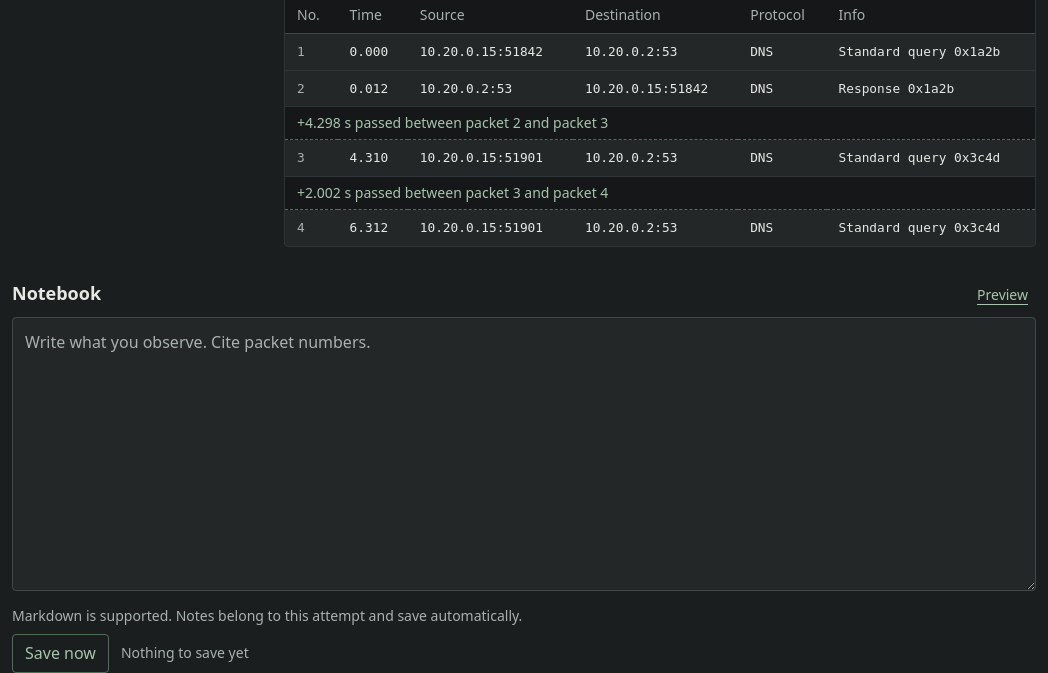
Workspace: notebook › saves the draft first, then completes the note step and shows the summary
The image size is (1048, 673).
(page scrolled)
In the text box named "Notebook": (524, 454) x1=12 y1=317 x2=1036 y2=591, type "Packet 4 retried packet 3."
(page scrolled)
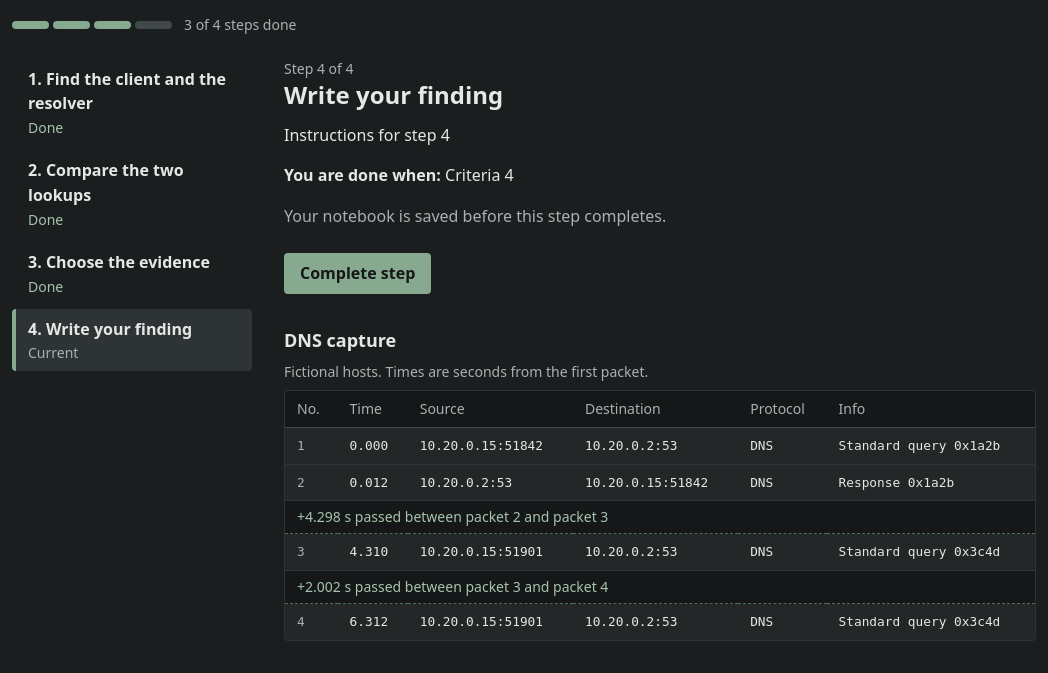
Click the button "Complete step": (358, 273) x1=284 y1=253 x2=431 y2=294
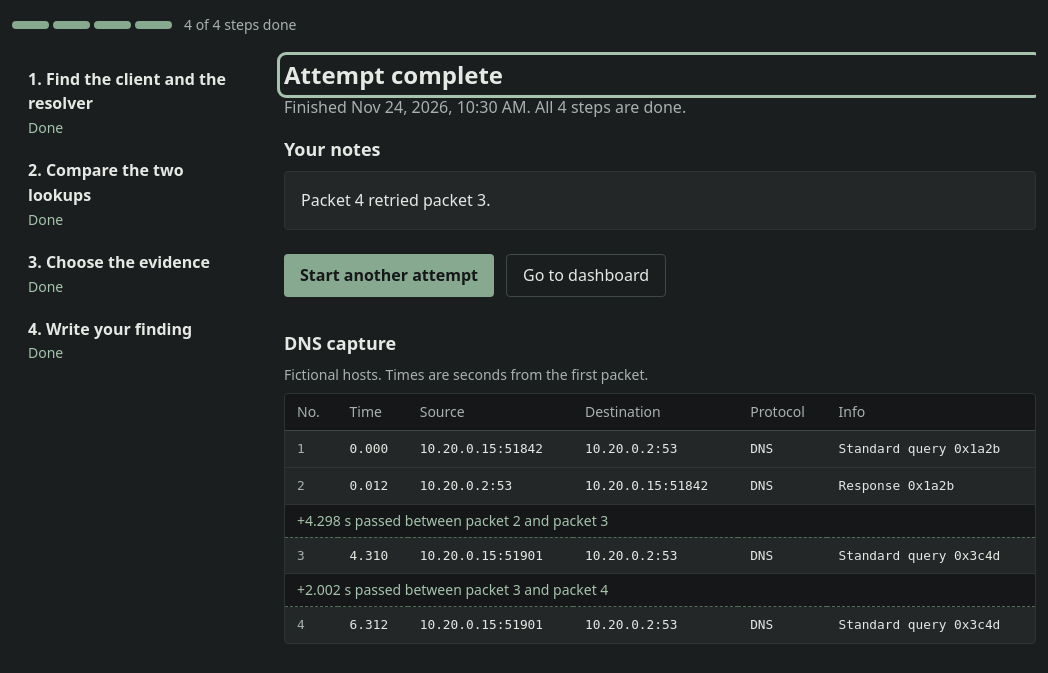
Expected: the heading "Attempt complete" is shown, x1=284 y1=58 x2=503 y2=91
Expected: the text "Packet 4 retried packet 3." is shown, x1=301 y1=189 x2=490 y2=211
